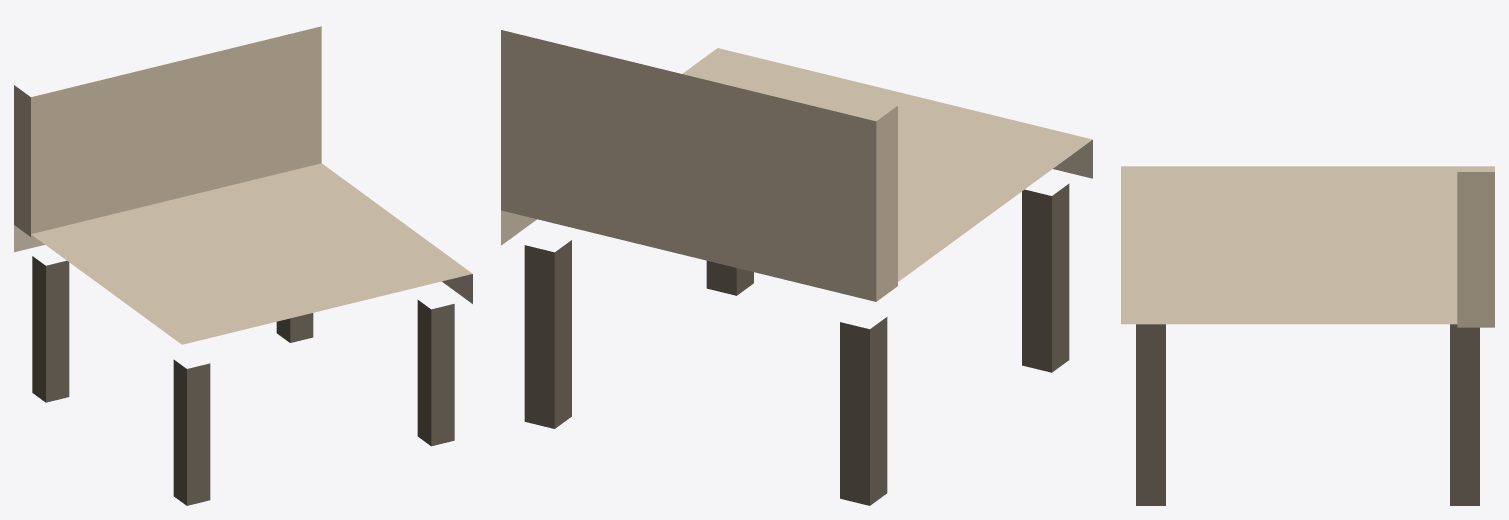
Rendered from Chair-beige.glb.
3 views of the same model, side by side, from view 1: azimuth 30°, elevation 25°; view 2: azimuth 150°, elevation 25°; view 3: azimuth 270°, elevation 25° (orthographic). The views are drawn at different scales.
Visible parts, largest first — view 1: Chair; view 2: Chair; view 3: Chair.
Boxes of the visible parts, left/top/right/bottom form: Chair: left=14, top=26, right=472, bottom=505; Chair: left=501, top=30, right=1092, bottom=505; Chair: left=1121, top=166, right=1494, bottom=505.
Bounding box in the file's own units: 1 × 1 × 1.
